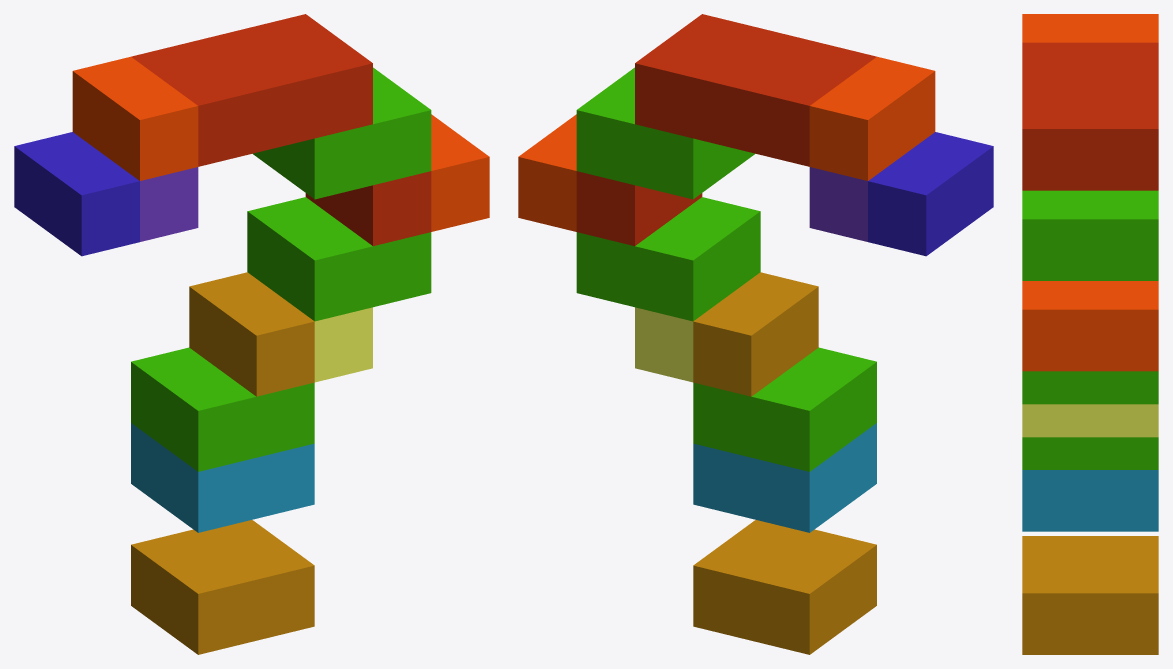
3 views of the same model, side by side, from view 1: azimuth 30°, elevation 25°; view 2: azimuth 150°, elevation 25°; view 3: azimuth 270°, elevation 25° (orthographic).
Visible parts, largest first — view 1: Null_2, Null, Null_4, Null_5, Null_7, Null_1, Null_6, Null_3; view 2: Null_2, Null, Null_4, Null_5, Null_7, Null_1, Null_6, Null_3; view 3: Null_2, Null_4, Null_5, Null, Null_1, Null_3.
Boxes of the visible parts, bbox=[...] form: Null_2: bbox=[131, 67, 431, 471]; Null: bbox=[131, 272, 314, 654]; Null_4: bbox=[131, 14, 431, 246]; Null_5: bbox=[72, 56, 489, 231]; Null_7: bbox=[14, 132, 139, 256]; Null_1: bbox=[131, 423, 314, 532]; Null_6: bbox=[140, 167, 198, 241]; Null_3: bbox=[314, 307, 372, 382]; Null_2: bbox=[576, 67, 876, 471]; Null: bbox=[693, 272, 876, 654]; Null_4: bbox=[576, 14, 876, 246]; Null_5: bbox=[518, 56, 935, 231]; Null_7: bbox=[868, 132, 993, 256]; Null_1: bbox=[693, 423, 876, 532]; Null_6: bbox=[809, 167, 867, 241]; Null_3: bbox=[635, 307, 693, 382]; Null_2: bbox=[1022, 190, 1158, 469]; Null_4: bbox=[1022, 42, 1158, 190]; Null_5: bbox=[1022, 14, 1158, 371]; Null: bbox=[1022, 536, 1158, 654]; Null_1: bbox=[1022, 470, 1158, 531]; Null_3: bbox=[1022, 404, 1158, 437].
Size of the model in its own units: 700 by 900 by 200.
